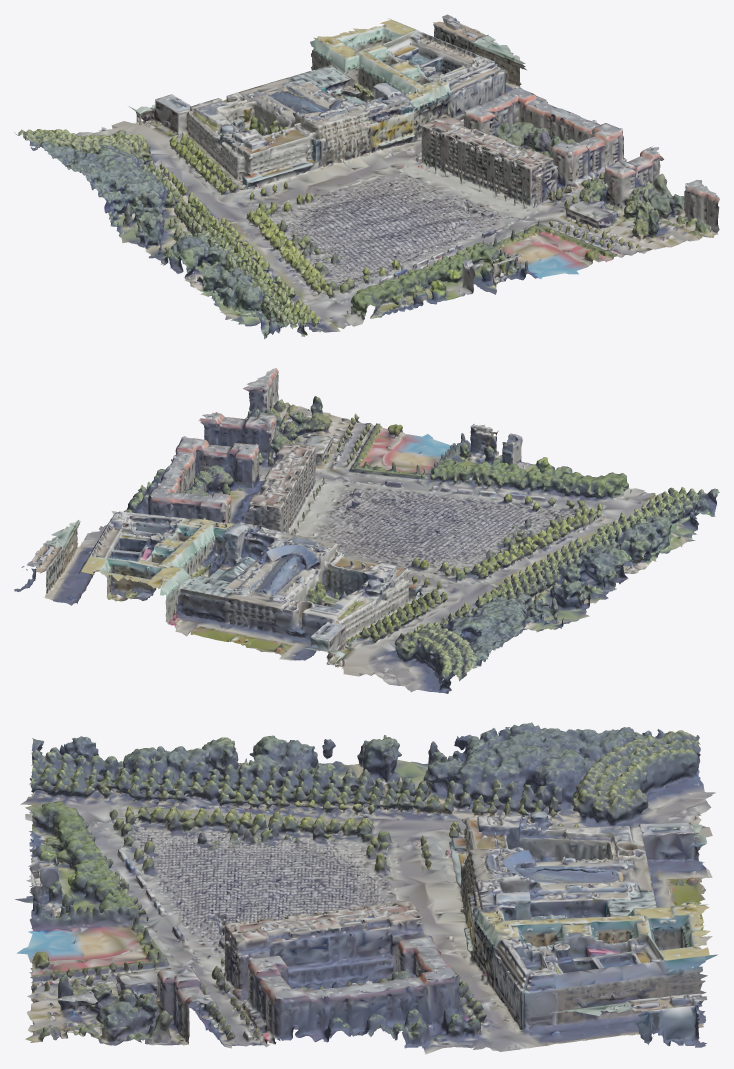
File: surface-detail-3898_58193.glb
3 renders of one model, top to bottom at view 1: azimuth 30°, elevation 25°; view 2: azimuth 150°, elevation 25°; view 3: azimuth 270°, elevation 25°, orthographic. The views are drawn at different scales.
Parts seen in each view (by area): view 1: world; view 2: world; view 3: world.
Boxes of the visible parts, left/top/right/bottom form: world: left=14, top=14, right=719, bottom=338; world: left=14, top=368, right=719, bottom=693; world: left=15, top=722, right=717, bottom=1054.
Size of the model in its own units: 381 by 40.36 by 382.
